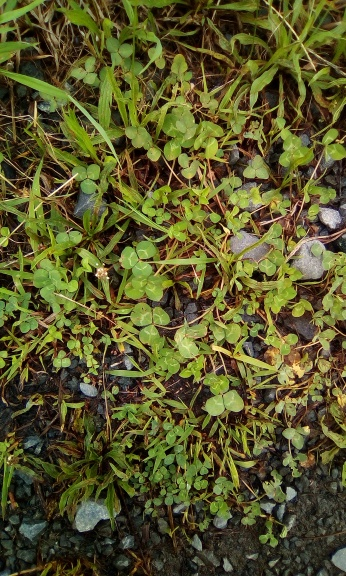4leaf: (123, 276, 165, 302), (179, 354, 204, 383), (204, 372, 229, 396)
